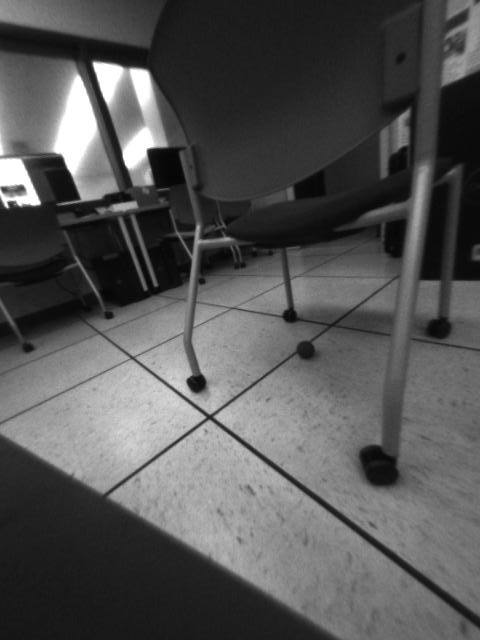dogtoy: (292, 333, 321, 364)
